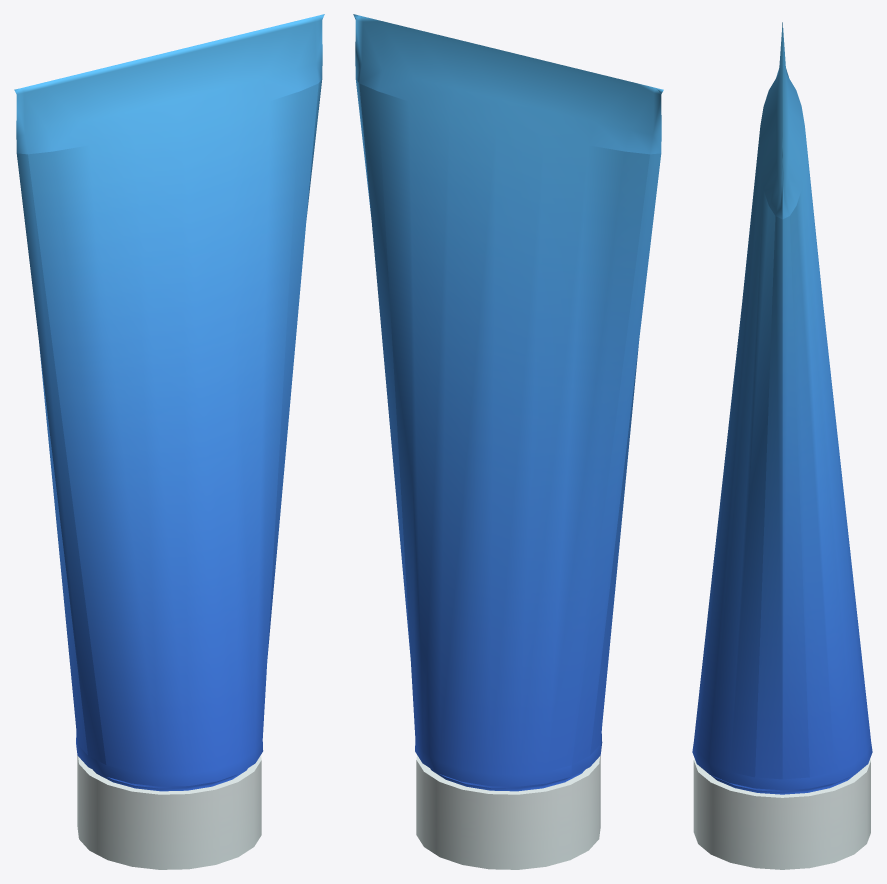
Rendered from cream_blue.fbx.
3 views of the same model, side by side, from view 1: azimuth 30°, elevation 25°; view 2: azimuth 150°, elevation 25°; view 3: azimuth 270°, elevation 25° (orthographic). The views are drawn at different scales.
Visible parts, largest first — view 1: cream_blue; view 2: cream_blue; view 3: cream_blue.
Part boxes in pixels (<box>): cream_blue: <box>14,14,324,869</box>; cream_blue: <box>353,14,663,869</box>; cream_blue: <box>692,22,872,869</box>.
Bounding box in the file's own units: 74.11 × 178 × 38.9.
